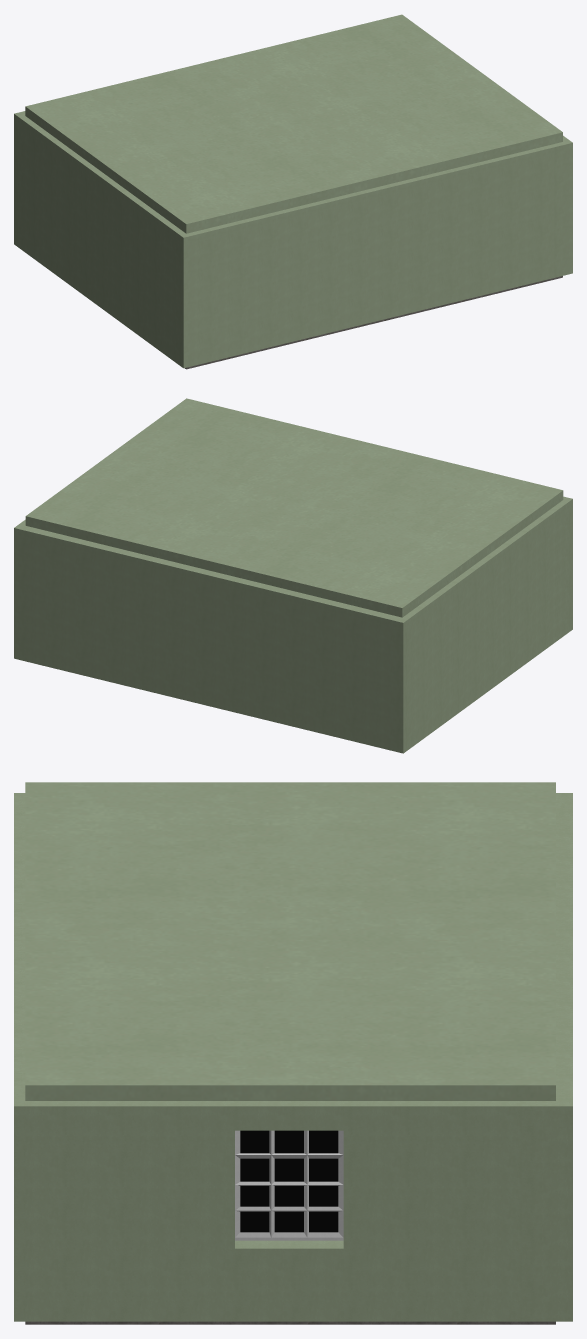
The model's file is room2.fbx.
The picture shows the model from 3 angles, top to bottom: view 1: azimuth 30°, elevation 25°; view 2: azimuth 150°, elevation 25°; view 3: azimuth 270°, elevation 25°; orthographic projection. The views are drawn at different scales.
Parts seen in each view (by area): view 1: roof, wall1, wall2, wall4, floor; view 2: roof, wall3, wall2, wall1; view 3: roof, wall4, wall3, window1, window2, wall1, floor.
Part boxes in pixels (x1,y1,x2,y2): roof: (25,14,562,233); wall1: (168,145,554,368); wall2: (14,111,173,356); wall4: (551,135,572,277); floor: (185,276,562,369); roof: (25,398,563,617); wall3: (14,519,381,746); wall2: (376,508,557,753); wall1: (551,496,572,640); roof: (25,782,555,1100); wall4: (14,1091,521,1321); wall3: (521,814,572,1321); window1: (235,1185,343,1240); window2: (235,1130,343,1184); wall1: (14,793,25,1090); floor: (25,1321,555,1324).
Size of the model in its own units: 1366 by 487 by 1030.
Materials: 7 (6 with a texture image).
